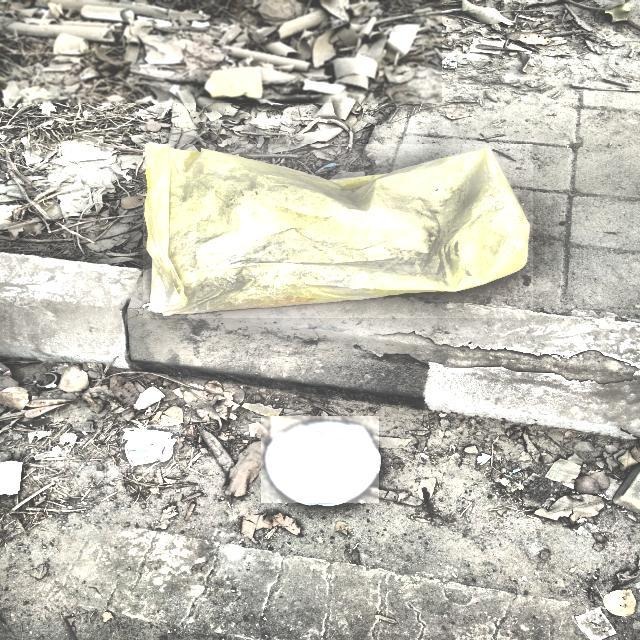anorganik: (144, 145, 533, 318), (261, 416, 378, 502), (121, 426, 179, 471)
organik: (0, 0, 442, 103)
